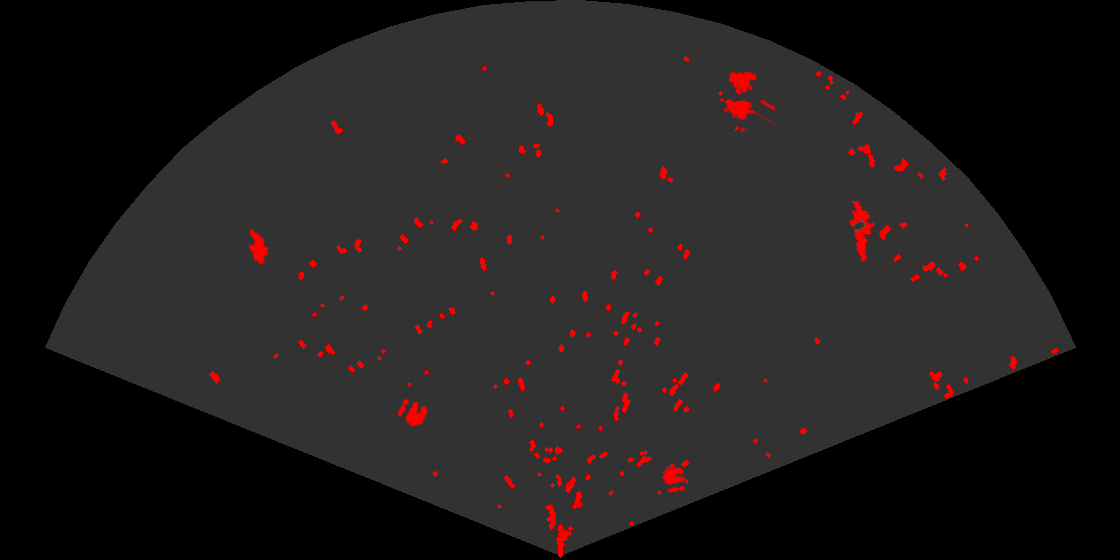AUV: (247, 227, 270, 267)
ball: (396, 397, 430, 429), (660, 466, 687, 494)
cage: (718, 70, 775, 132)
frogman: (848, 201, 877, 264)
